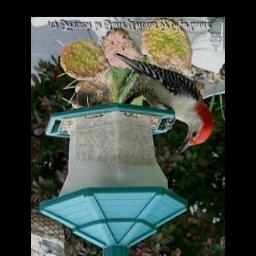Woodpecker: (113, 54, 214, 156)
